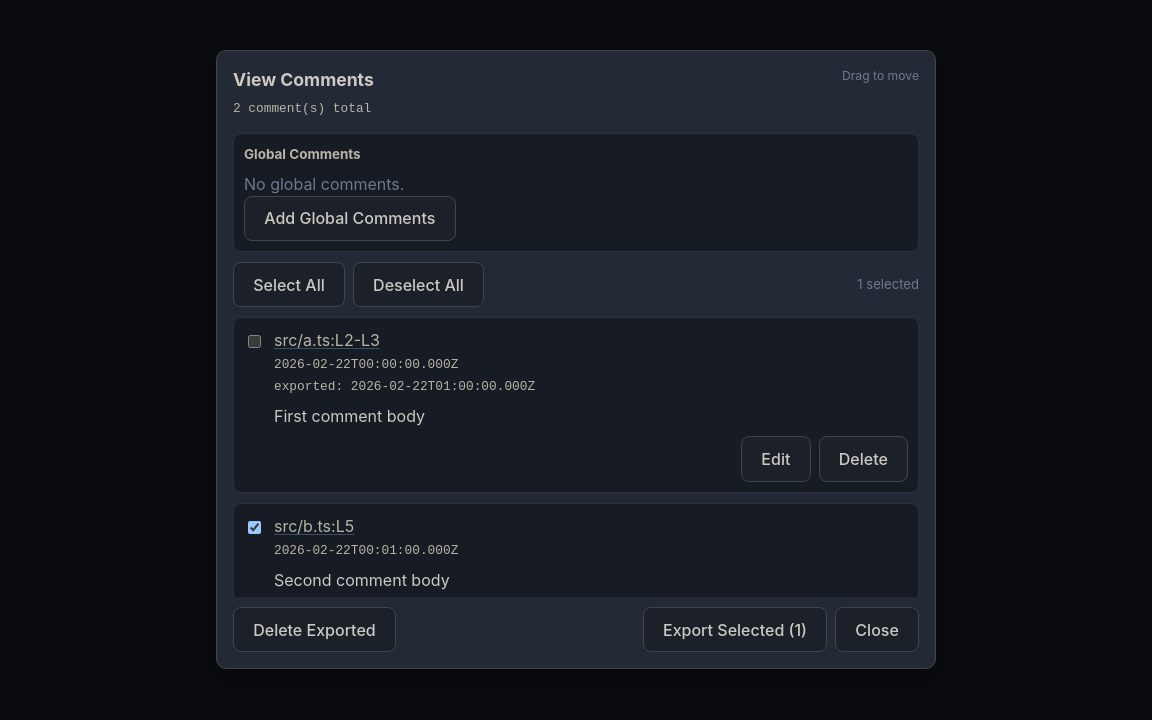
CommentListModal › Select All checks all comments
What coordinates should you click on to do the following:
click the button "Select All"
I would click on:
 (289, 285)
Its box is [233,262,345,308].
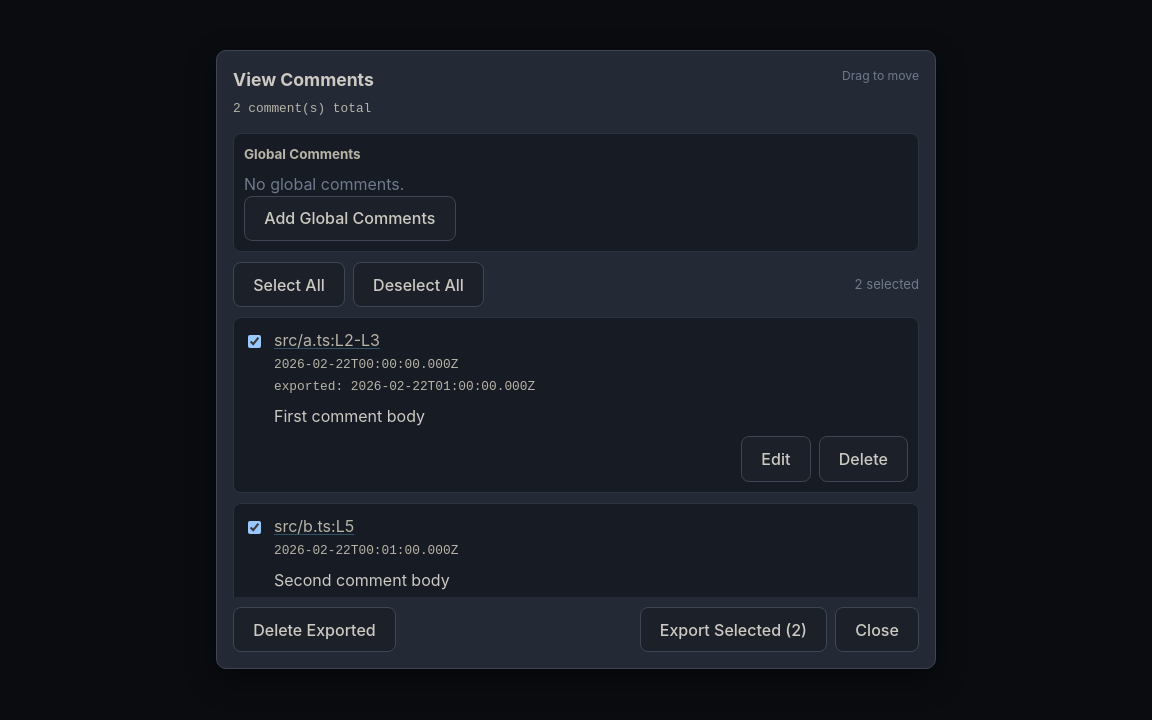
Expected: the checkbox named "Select comment from src/b.ts:L5" is checked, [248,521,261,534]
Now the checkbox named "Select comment from src/a.ts:L2-L3" is checked, box [248,336,261,348]
Now the text with test id "comment-list-selection-count" reads "2 selected", box [855,275,919,295]
